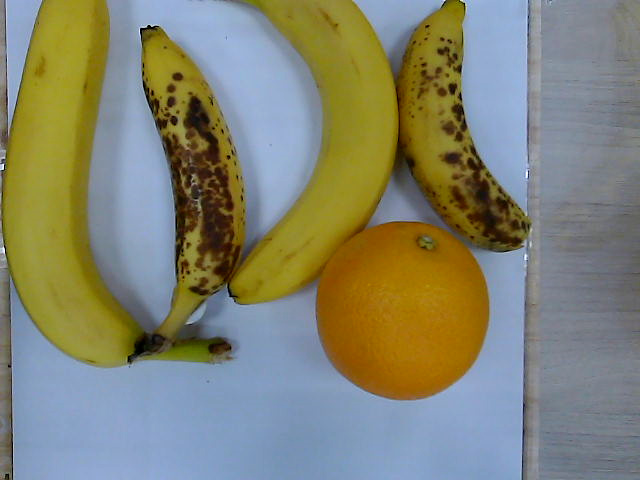fresh_banana: (6, 1, 154, 367), (228, 1, 400, 309)
fresh_orange: (312, 223, 491, 401)
rotten_banana: (140, 25, 245, 348), (398, 1, 533, 252)
